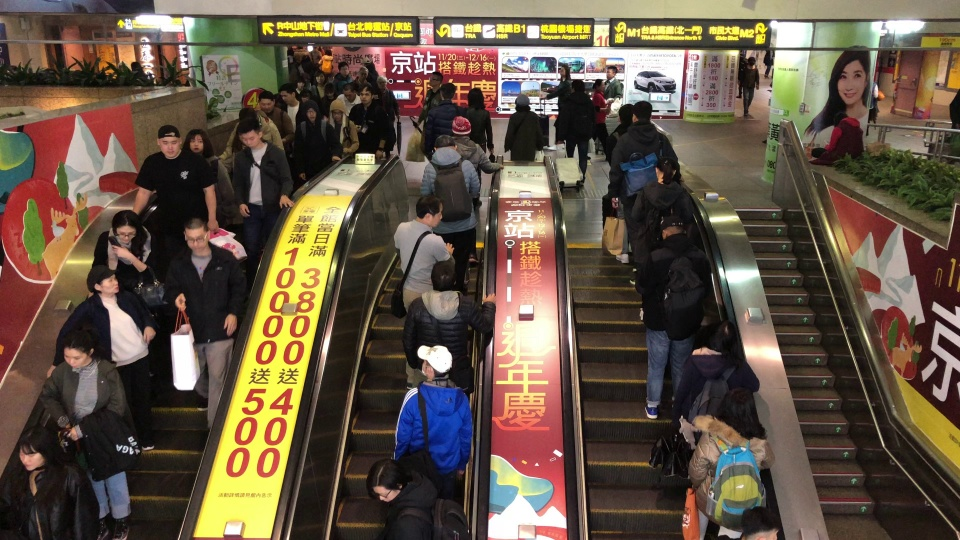person_head: (365, 459, 424, 504), (715, 389, 765, 440), (14, 427, 52, 471), (416, 342, 452, 384), (738, 507, 781, 540), (60, 331, 95, 369), (109, 210, 144, 244), (181, 219, 212, 254), (413, 195, 443, 228), (86, 266, 120, 295), (154, 124, 181, 158), (429, 260, 457, 291), (705, 324, 735, 352), (183, 128, 212, 155), (652, 156, 678, 184), (658, 213, 686, 239), (235, 125, 264, 150), (632, 100, 655, 124), (431, 133, 457, 153), (450, 115, 472, 136), (238, 106, 259, 127), (466, 87, 486, 108), (257, 91, 276, 113), (616, 103, 634, 124), (514, 94, 532, 114), (304, 99, 319, 122), (279, 85, 297, 104), (831, 111, 850, 129), (329, 101, 346, 121), (441, 81, 456, 101), (358, 86, 374, 104), (428, 71, 443, 87), (341, 88, 356, 103), (570, 78, 585, 93), (336, 62, 350, 77), (313, 69, 327, 84), (592, 78, 606, 93), (375, 76, 388, 90), (558, 65, 570, 80), (605, 65, 617, 79), (357, 65, 367, 80), (129, 61, 141, 71), (745, 57, 757, 67), (116, 61, 129, 70), (360, 56, 371, 65), (324, 48, 332, 56), (767, 42, 773, 49), (295, 45, 303, 50), (311, 45, 317, 49)
person_vbox: (46, 265, 158, 451), (45, 331, 137, 540), (631, 213, 713, 419), (172, 218, 246, 430), (673, 324, 762, 493), (684, 389, 779, 540), (129, 123, 220, 276), (401, 259, 495, 401), (390, 194, 454, 387), (619, 98, 685, 285), (86, 210, 172, 350), (0, 426, 100, 540), (393, 342, 474, 479), (231, 124, 295, 287), (612, 112, 679, 262), (627, 156, 687, 321), (419, 134, 479, 294), (360, 458, 468, 540), (220, 106, 286, 202), (442, 115, 504, 213), (182, 127, 236, 229), (562, 78, 598, 185), (298, 100, 344, 181), (464, 86, 495, 203), (420, 81, 464, 156), (808, 110, 864, 168), (539, 64, 574, 146), (349, 87, 388, 156), (503, 94, 542, 161), (414, 71, 443, 153), (588, 78, 613, 166), (257, 91, 294, 146), (375, 76, 400, 156), (328, 100, 360, 155), (742, 56, 761, 120), (278, 85, 301, 133), (334, 87, 362, 117), (601, 63, 623, 100), (359, 56, 379, 82), (762, 41, 776, 78), (333, 61, 353, 86), (311, 70, 326, 100), (318, 47, 333, 74), (355, 64, 371, 87), (309, 45, 322, 68), (130, 60, 145, 78), (116, 61, 130, 80), (294, 45, 307, 62)
